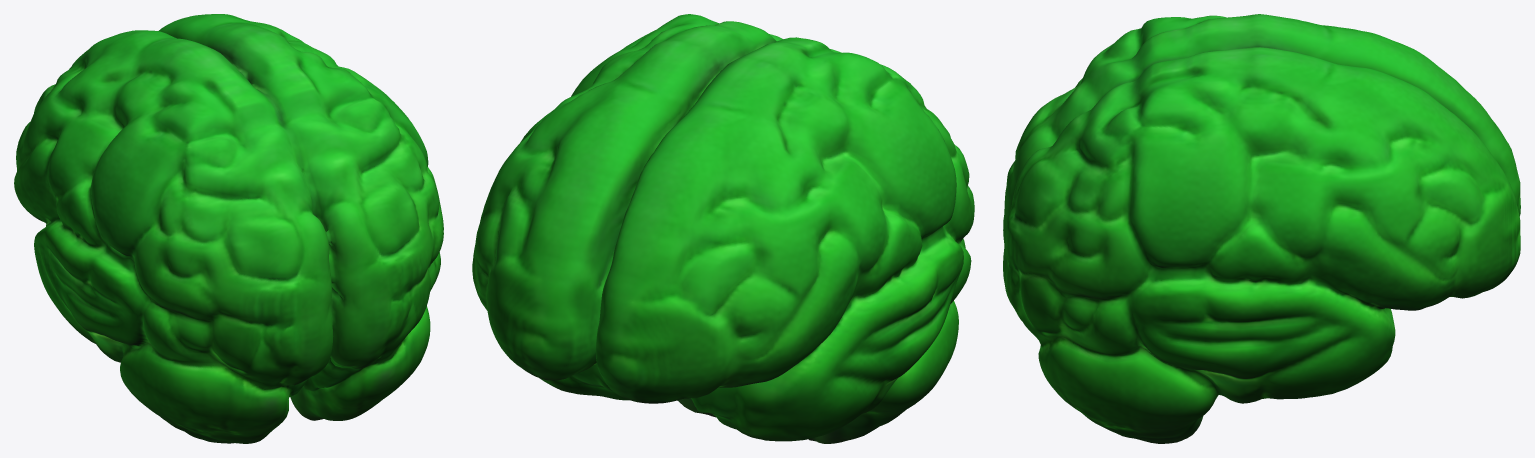
Rendered from asset.glb.
3 renders of one model, left to right at view 1: azimuth 30°, elevation 25°; view 2: azimuth 150°, elevation 25°; view 3: azimuth 270°, elevation 25°, orthographic. The views are drawn at different scales.
Bounding box in the file's own units: 0.7864 × 0.786 × 0.9785.
1 material, 1 textured.
